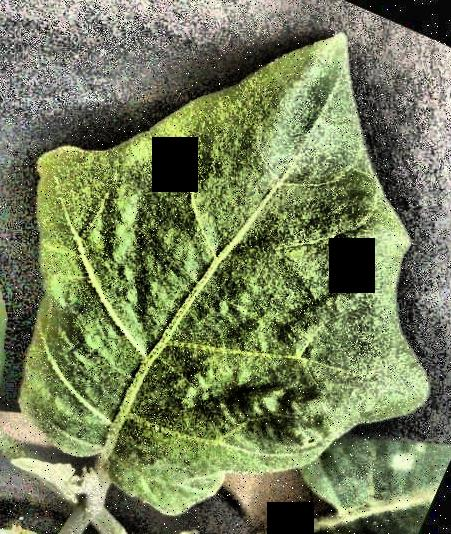HEALTHY: (0, 1, 451, 534)
